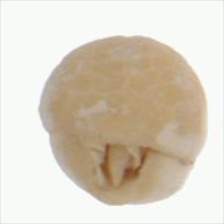L3: (93, 142, 155, 185)
L4: (39, 36, 208, 205)
